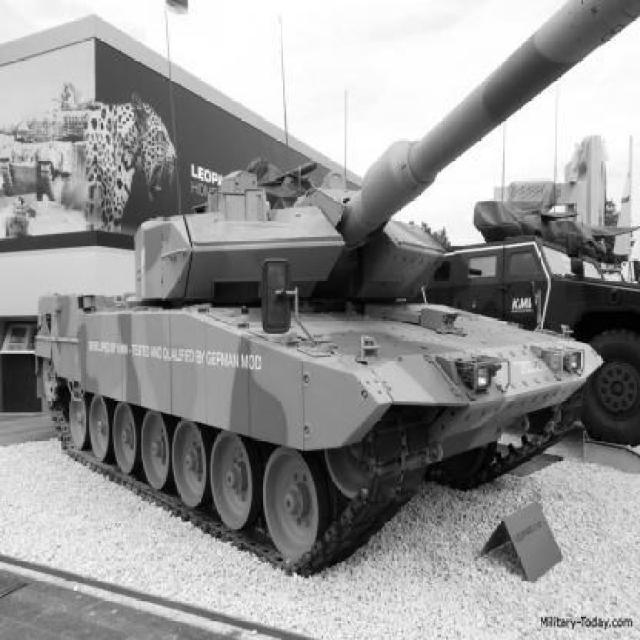Tank: (31, 1, 639, 579)
